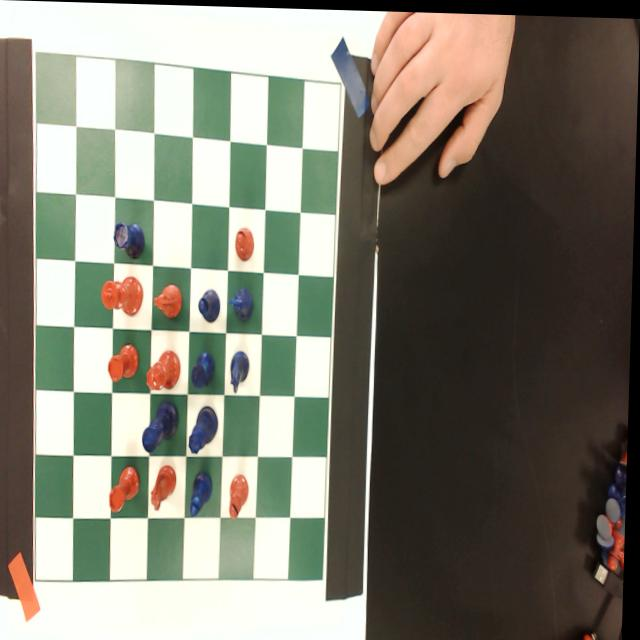B: (193, 469, 216, 518), (198, 285, 223, 325)
K: (144, 399, 181, 453)
N: (230, 280, 257, 323), (231, 346, 254, 394)
Q: (190, 401, 221, 456)
R: (113, 213, 146, 262), (192, 349, 219, 389)
b: (231, 471, 254, 520), (236, 225, 257, 262)
k: (102, 274, 147, 317)
n: (152, 461, 180, 512), (154, 280, 185, 321)
q: (147, 349, 184, 391)
r: (112, 464, 143, 514), (109, 343, 142, 384)
